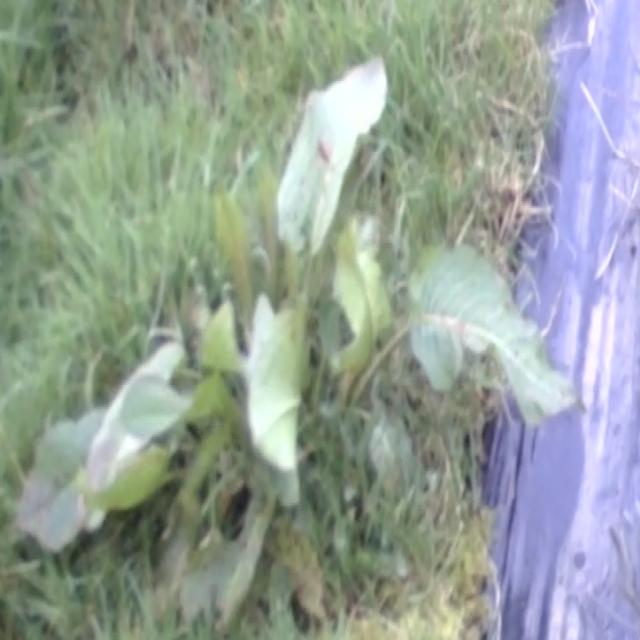organic waste: (1, 64, 598, 562)
